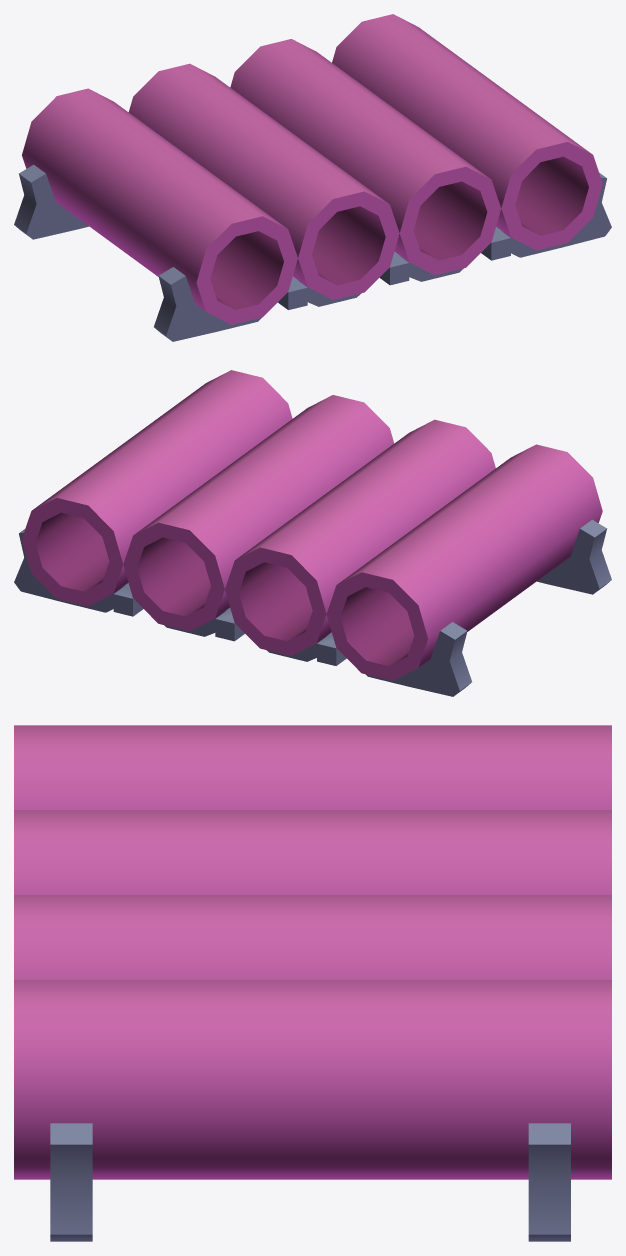
The model's file is obstacle-pipe_platform_H1W3.glb.
3 renders of one model, top to bottom at view 1: azimuth 30°, elevation 25°; view 2: azimuth 150°, elevation 25°; view 3: azimuth 270°, elevation 25°, orthographic. The views are drawn at different scales.
Visible parts, largest first — view 1: obstacle-pipe_platform_H1W3; view 2: obstacle-pipe_platform_H1W3; view 3: obstacle-pipe_platform_H1W3.
Part boxes in pixels (left/top/right/bottom): obstacle-pipe_platform_H1W3: left=14, top=14, right=611, bottom=341; obstacle-pipe_platform_H1W3: left=14, top=370, right=611, bottom=696; obstacle-pipe_platform_H1W3: left=14, top=725, right=611, bottom=1241.
Size of the model in its own units: 8.85 by 2.18 by 6.
